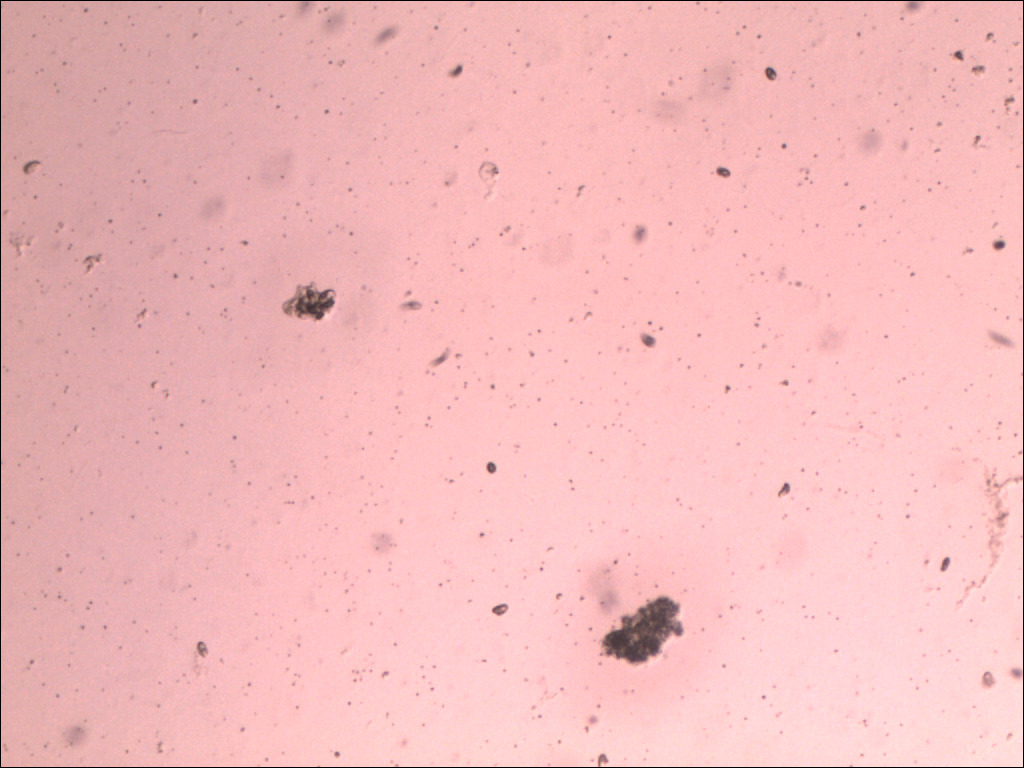amoeba: (594, 593, 698, 670), (275, 278, 348, 326)
